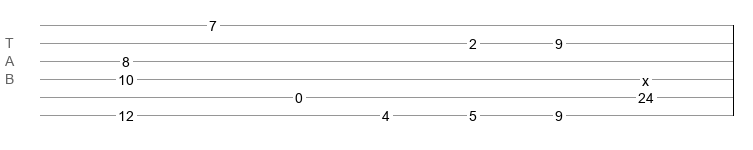0: (295, 90, 303, 100)
10: (118, 72, 134, 82)
12: (118, 108, 134, 118)
2: (469, 36, 477, 46)
24: (638, 90, 654, 100)
4: (382, 108, 390, 118)
5: (469, 108, 477, 118)
7: (209, 18, 217, 28)
8: (122, 54, 130, 64)
9: (555, 108, 563, 118), (555, 36, 563, 46)
x: (642, 73, 649, 81)
